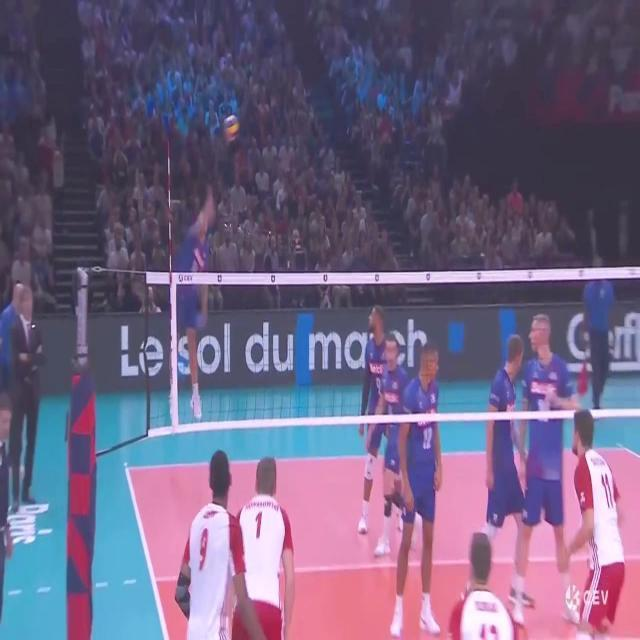volleyball: (223, 116, 239, 140)
